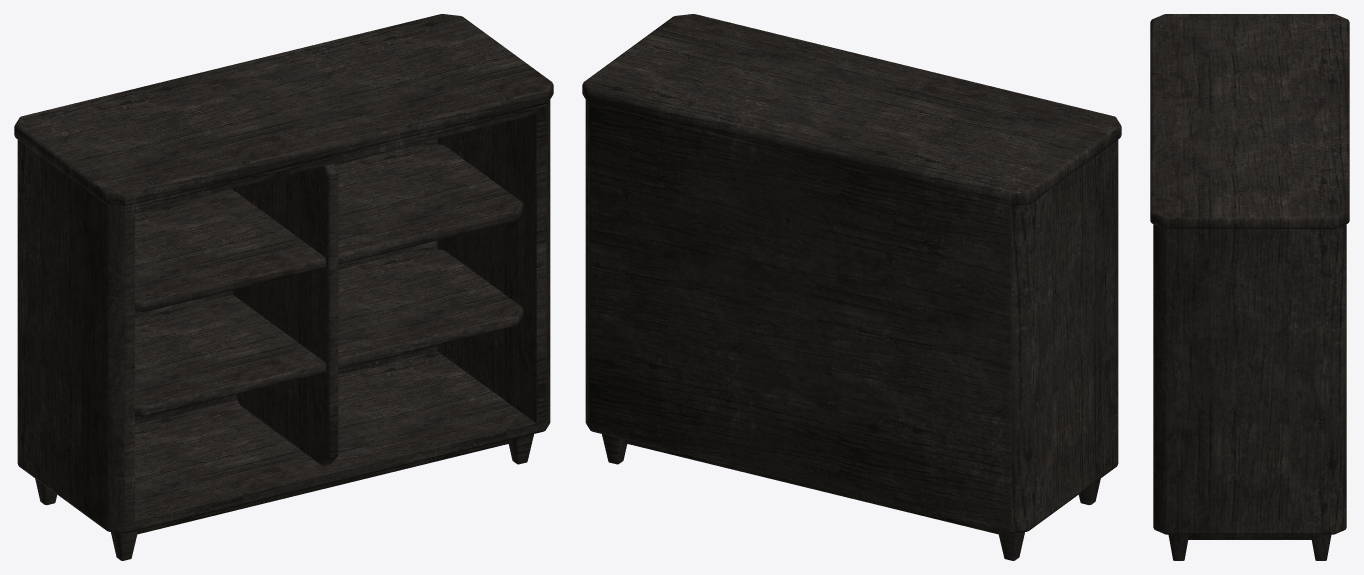
The model's file is wardrobe_3.obj.
The picture shows the model from 3 angles, left to right: view 1: azimuth 30°, elevation 25°; view 2: azimuth 150°, elevation 25°; view 3: azimuth 270°, elevation 25°; orthographic projection. The views are drawn at different scales.
Visible parts, largest first — view 1: wardrobe_3; view 2: wardrobe_3; view 3: wardrobe_3.
Boxes of the visible parts, x1=… form: wardrobe_3: x1=14, y1=14, x2=553, y2=560; wardrobe_3: x1=582, y1=14, x2=1121, y2=560; wardrobe_3: x1=1150, y1=14, x2=1349, y2=560.
Bounding box in the file's own units: 1.7 × 1.37 × 0.7.
